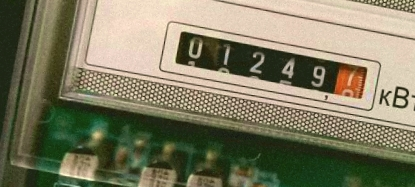0: (185, 33, 205, 60)
1: (217, 39, 234, 67)
2: (246, 49, 266, 76)
4: (279, 53, 298, 80)
7: (342, 61, 360, 89)
9: (307, 61, 327, 89)
screen: (155, 18, 385, 115)
